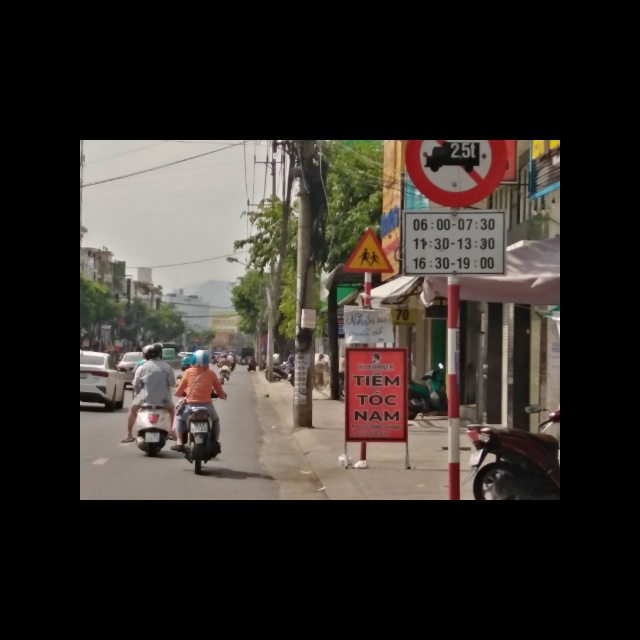Cấm xe tải: (401, 140, 508, 208)
Trẻ em ngang qua: (345, 227, 397, 274)
